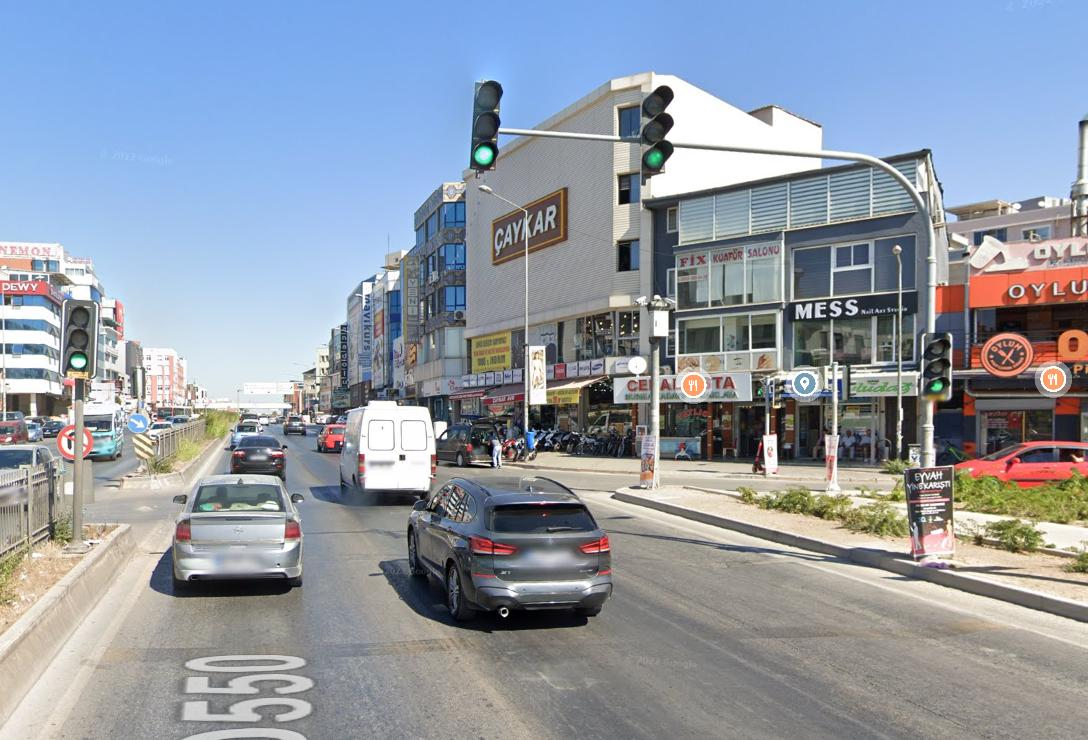greenlight: (469, 83, 504, 172), (640, 90, 672, 178), (61, 304, 93, 381), (922, 336, 948, 398)
